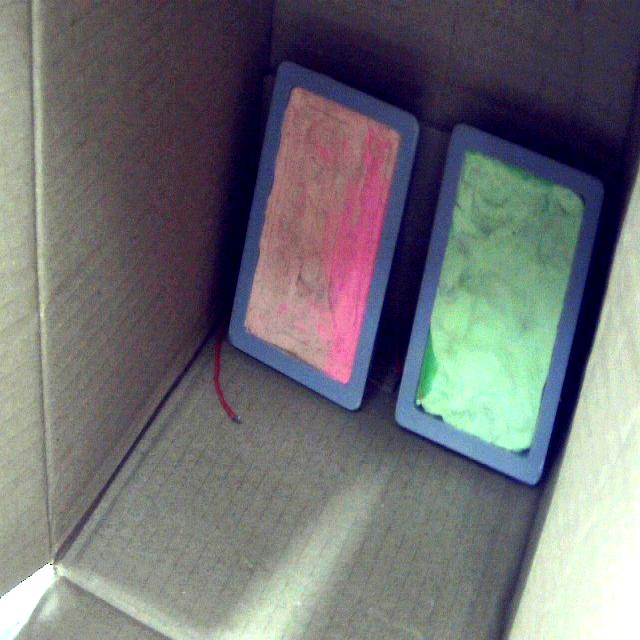block: (392, 127, 602, 486), (226, 66, 417, 414)
